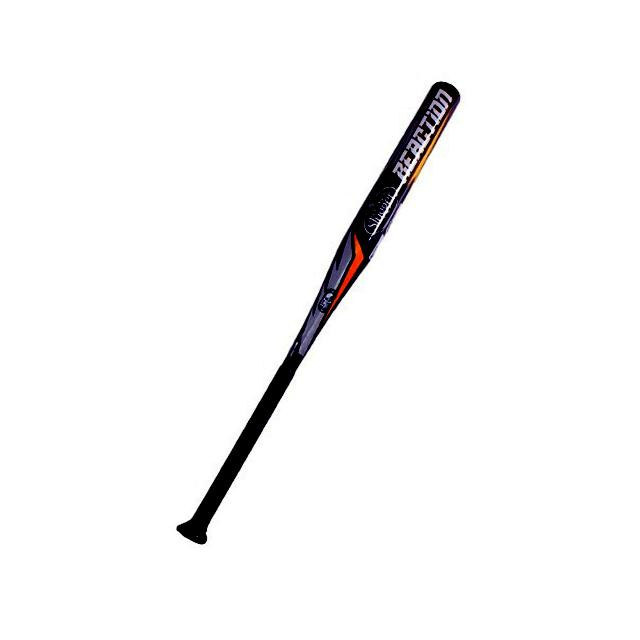baseball bat: (178, 53, 532, 537)
